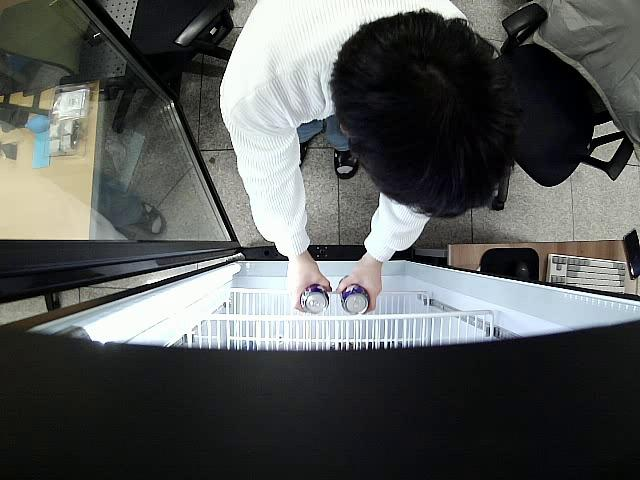00_hand: (285, 257, 332, 313), (337, 259, 381, 315)
14_welchsGrape: (339, 273, 371, 317), (300, 283, 331, 314)
